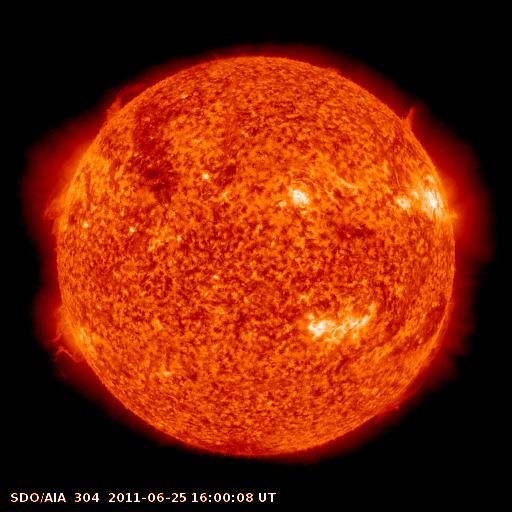prominence: (370, 304, 456, 424), (43, 312, 101, 373), (98, 75, 156, 124), (39, 173, 74, 243), (393, 92, 427, 146)
